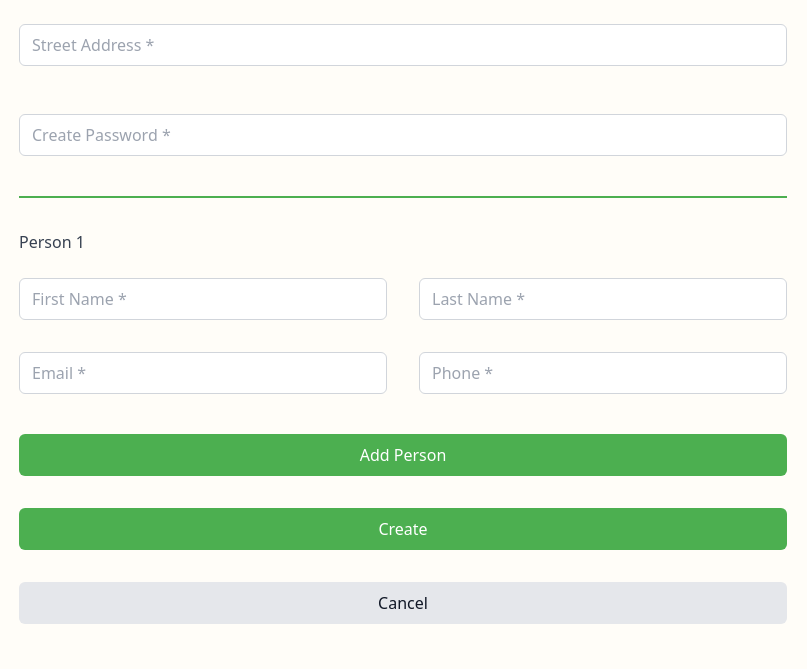
Scenario: SignUpForm › shows duplicate email error when account already exists
This screenshot has width=807, height=669.
Type "123 Main St" into the field named "Street Address*" at [403, 45], box [19,24,787,66]
Type "abc123" into the password field named "Create Password*" at [403, 135], box [19,114,787,156]
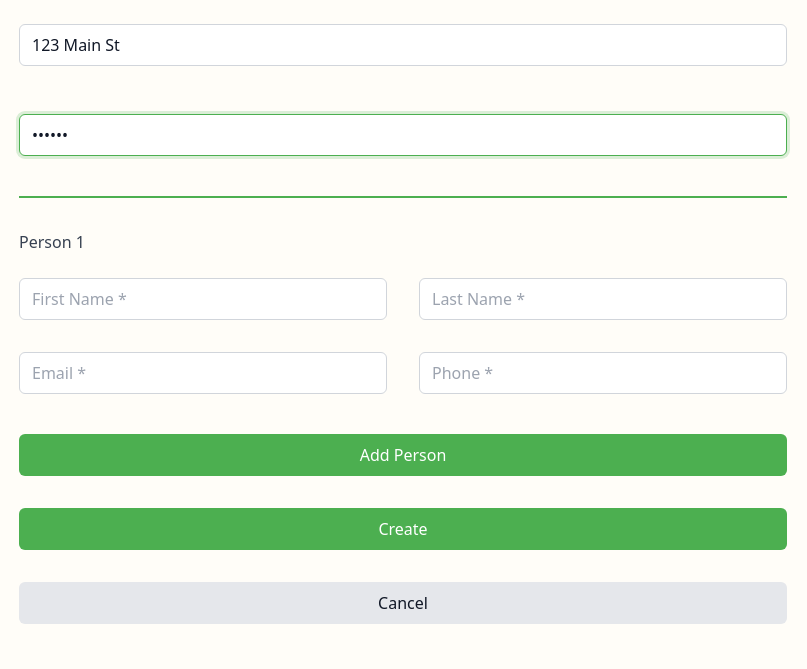
Type "Tony" into the field named "First Name*" at [203, 299], box [19,278,387,320]
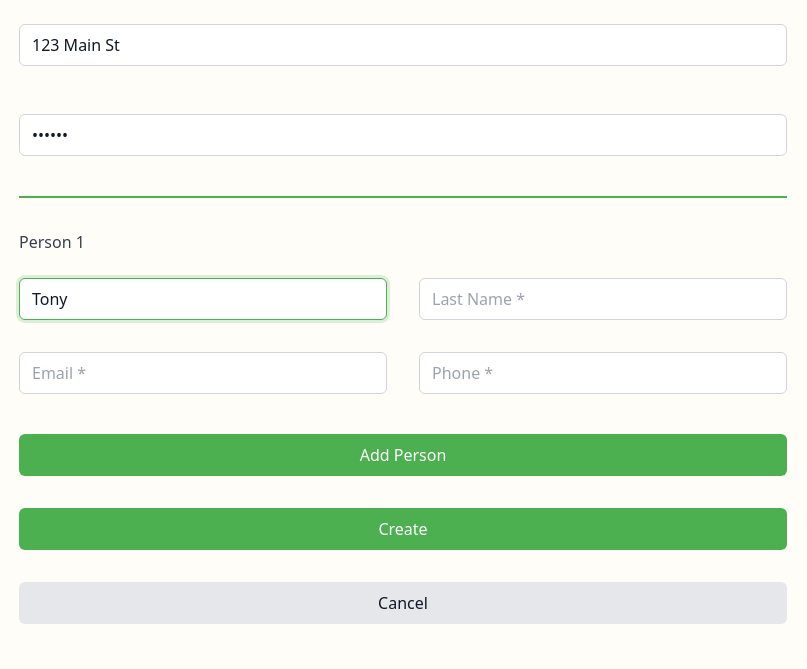
Type "Stark" into the field named "Last Name*" at [603, 299], box [419,278,787,320]
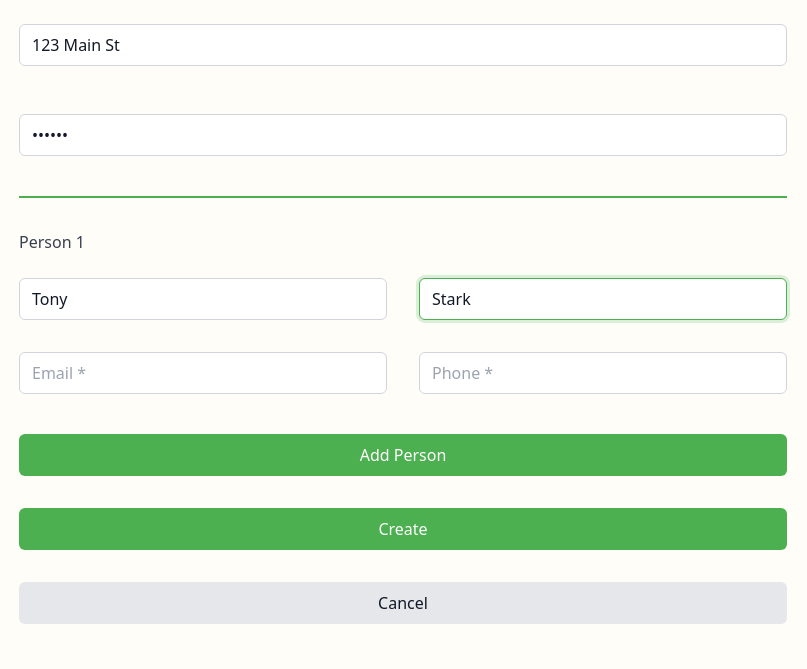
Type "tony@example.com" into the field named "Email*" at [203, 373], box [19,352,387,394]
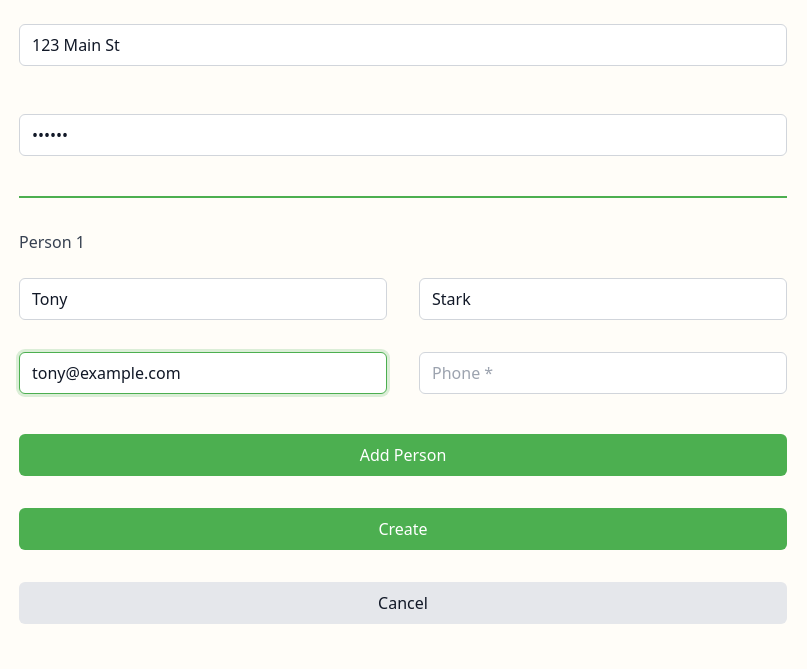
Type "5551234567" into the field named "Phone*" at [603, 373], box [419,352,787,394]
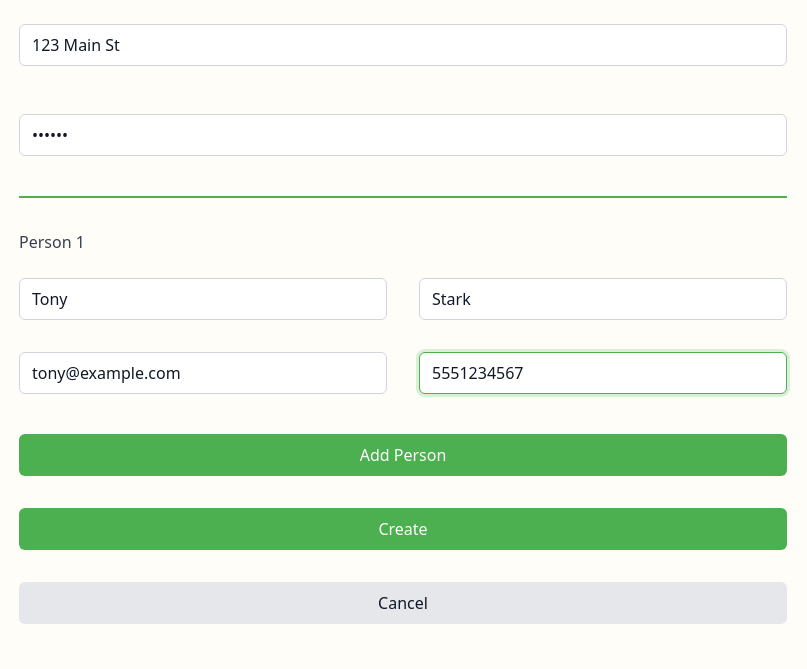
Click the button "Create" at [403, 529], box [19,508,787,550]
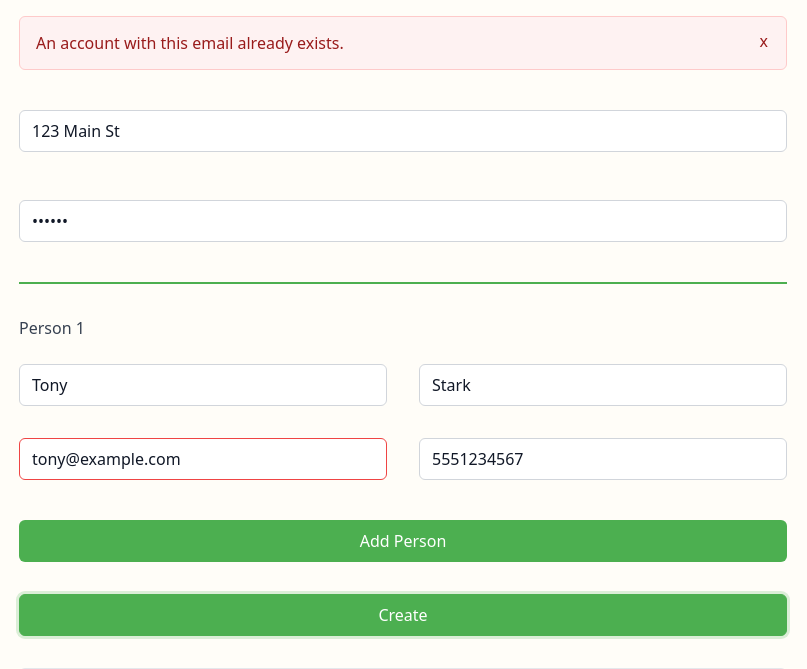
Check: the text "An account with this email already exists." is shown, box [36,31,344,55]
